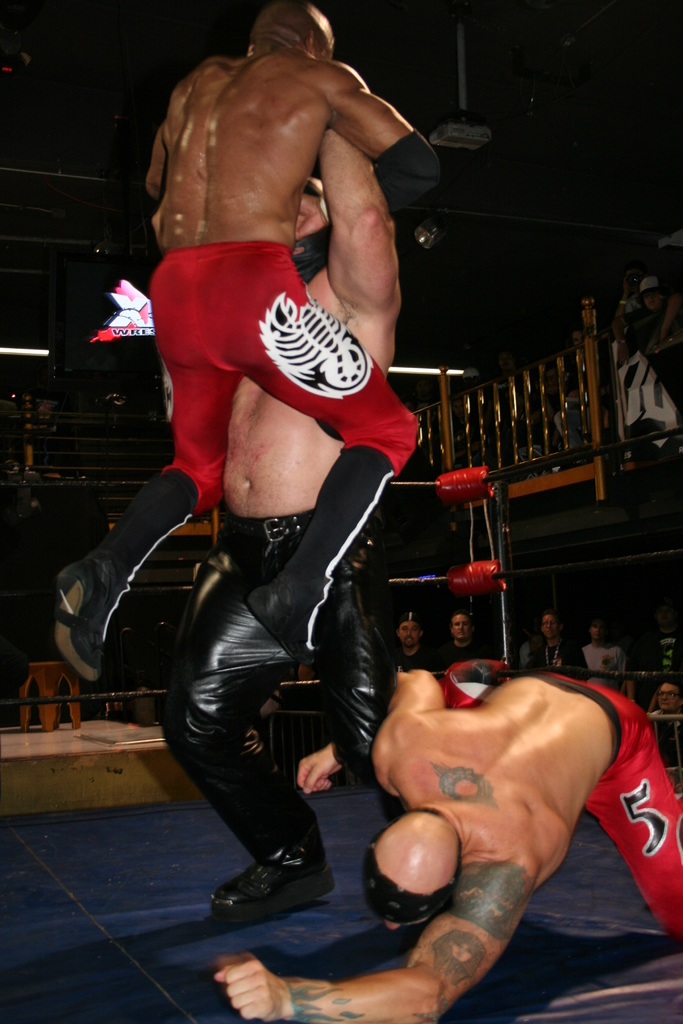Person: (385, 611, 683, 790), (454, 319, 683, 480)
